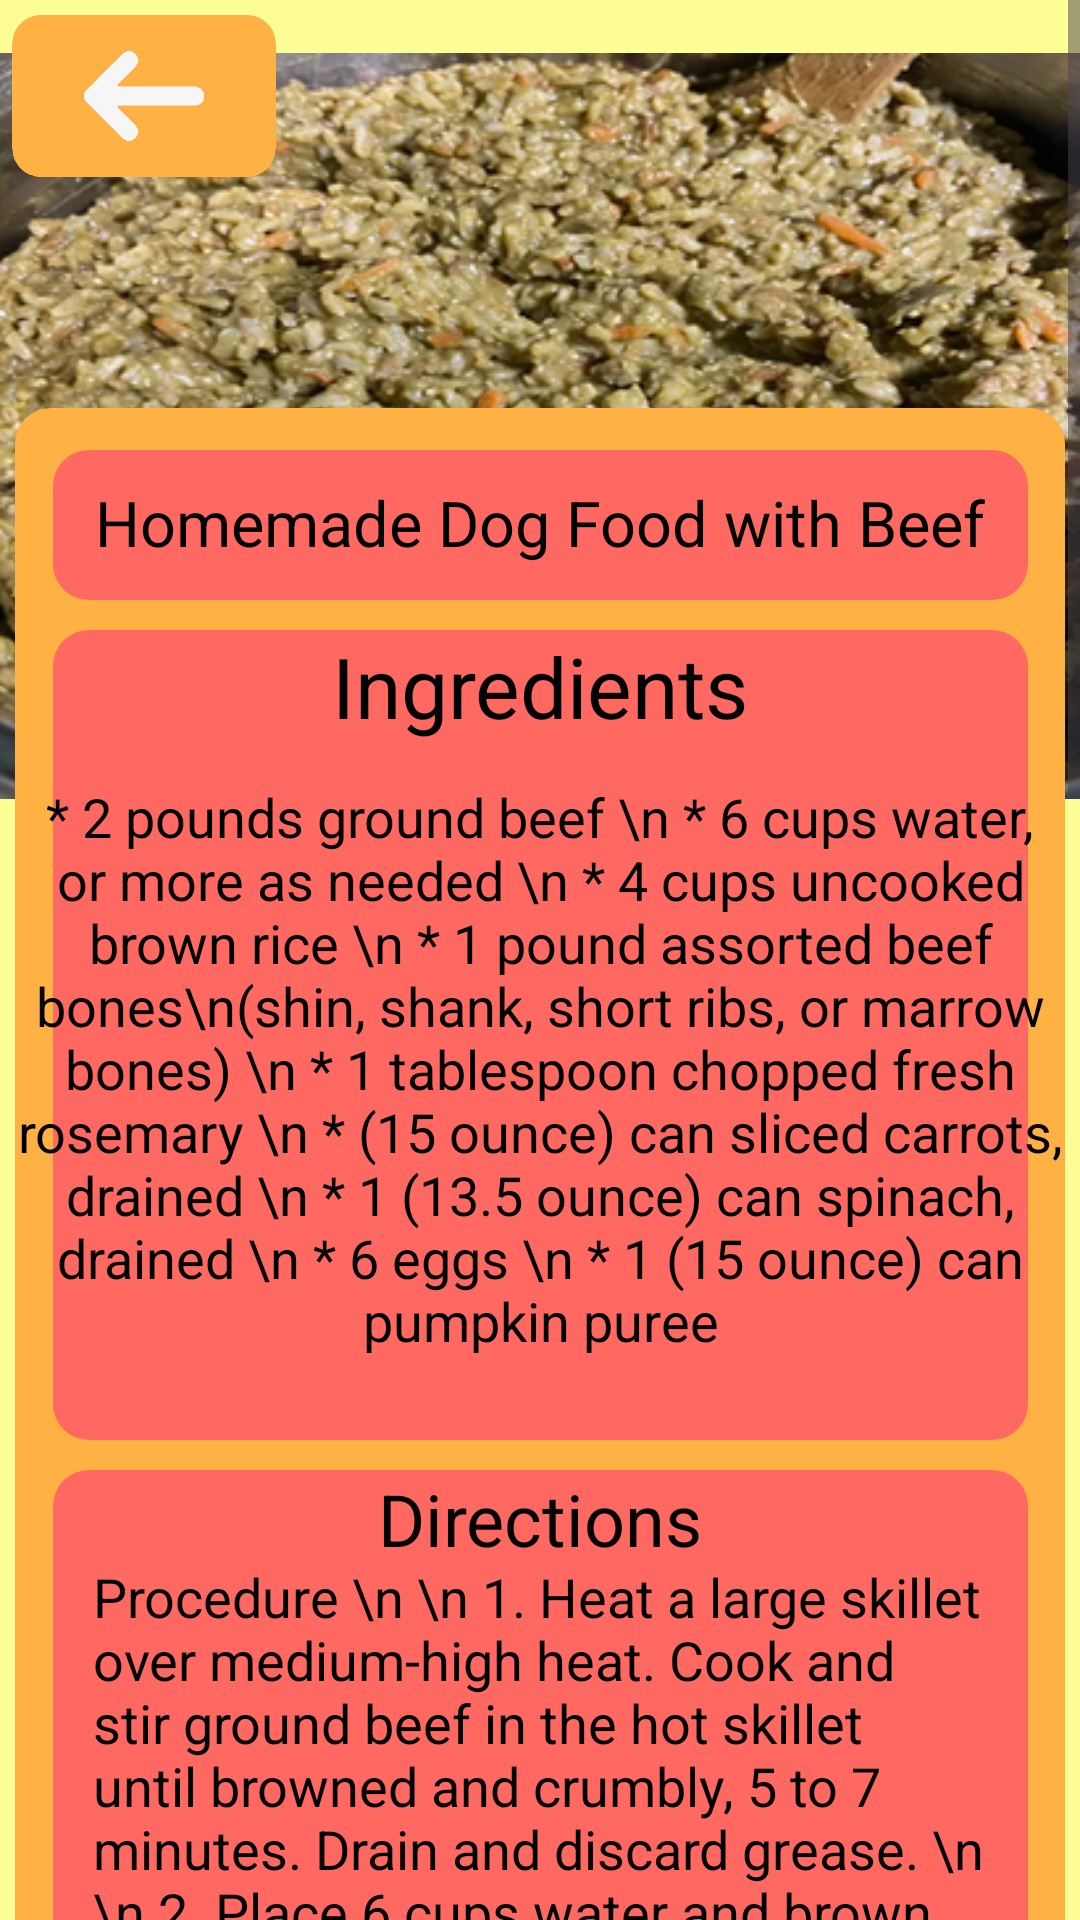

Screen size 1080×1920. Icon name, then its center in pixels as (x=x, y=y):
backred: (x=144, y=96)
